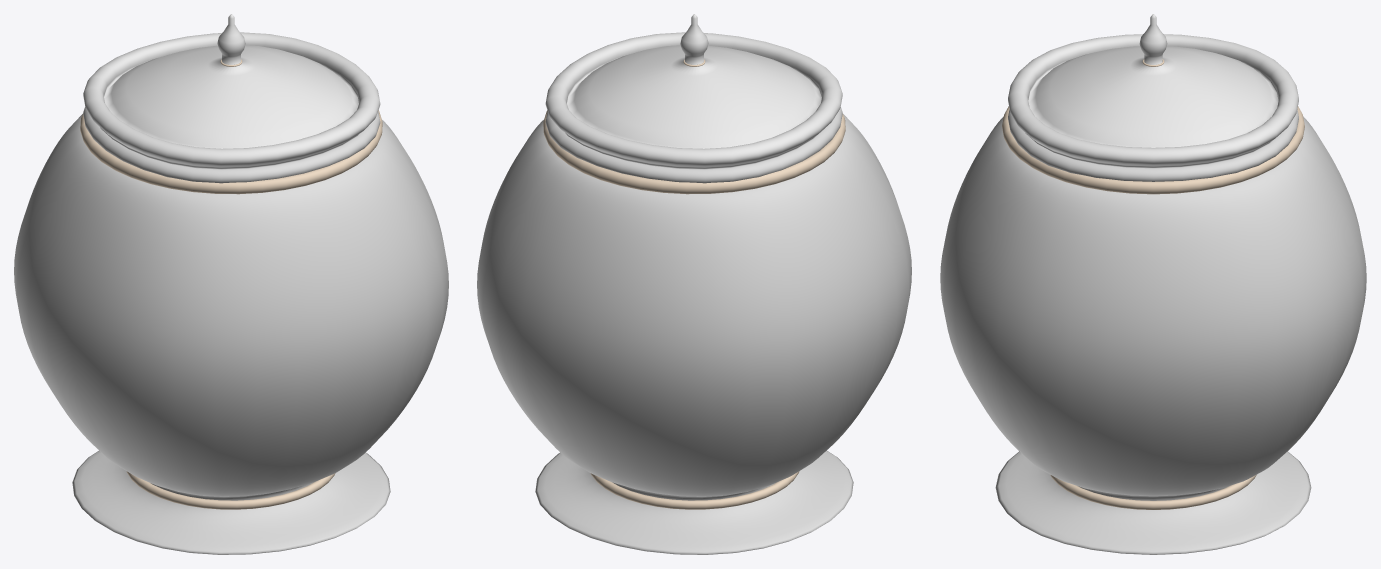
The model's file is CandyJar 1.fbx.
The picture shows the model from 3 angles, left to right: view 1: azimuth 30°, elevation 25°; view 2: azimuth 150°, elevation 25°; view 3: azimuth 270°, elevation 25°; orthographic projection.
Parts seen in each view (by area): view 1: Torus.004; view 2: Torus.004; view 3: Torus.004.
Part boxes in pixels (box(x1,y1,x2,y2)): Torus.004: box(14, 14, 448, 554); Torus.004: box(477, 14, 911, 554); Torus.004: box(940, 14, 1366, 554).
Size of the model in its own units: 211 by 265 by 211.
